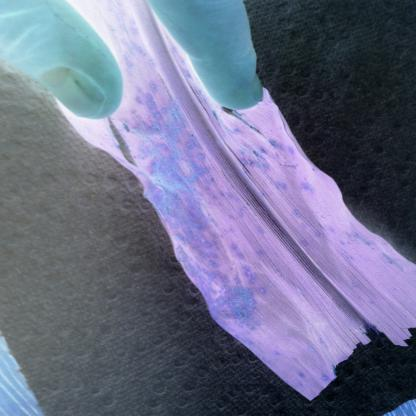Corn rust leaf: (124, 100, 416, 416)
